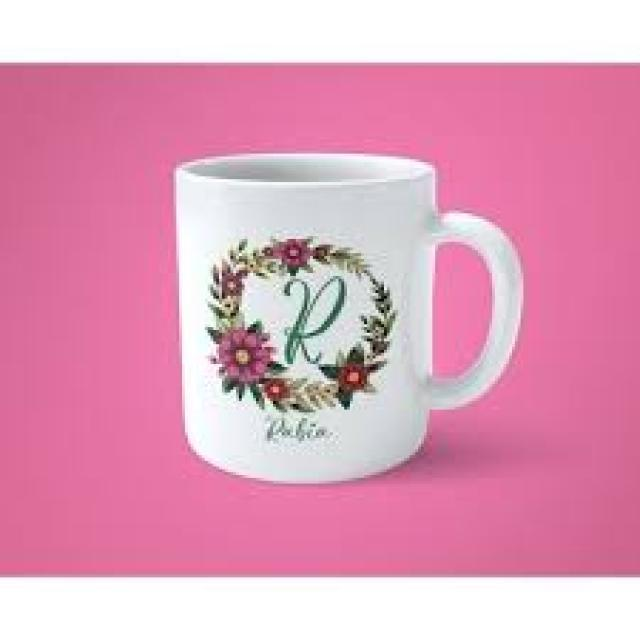taza: (175, 153, 523, 483)
